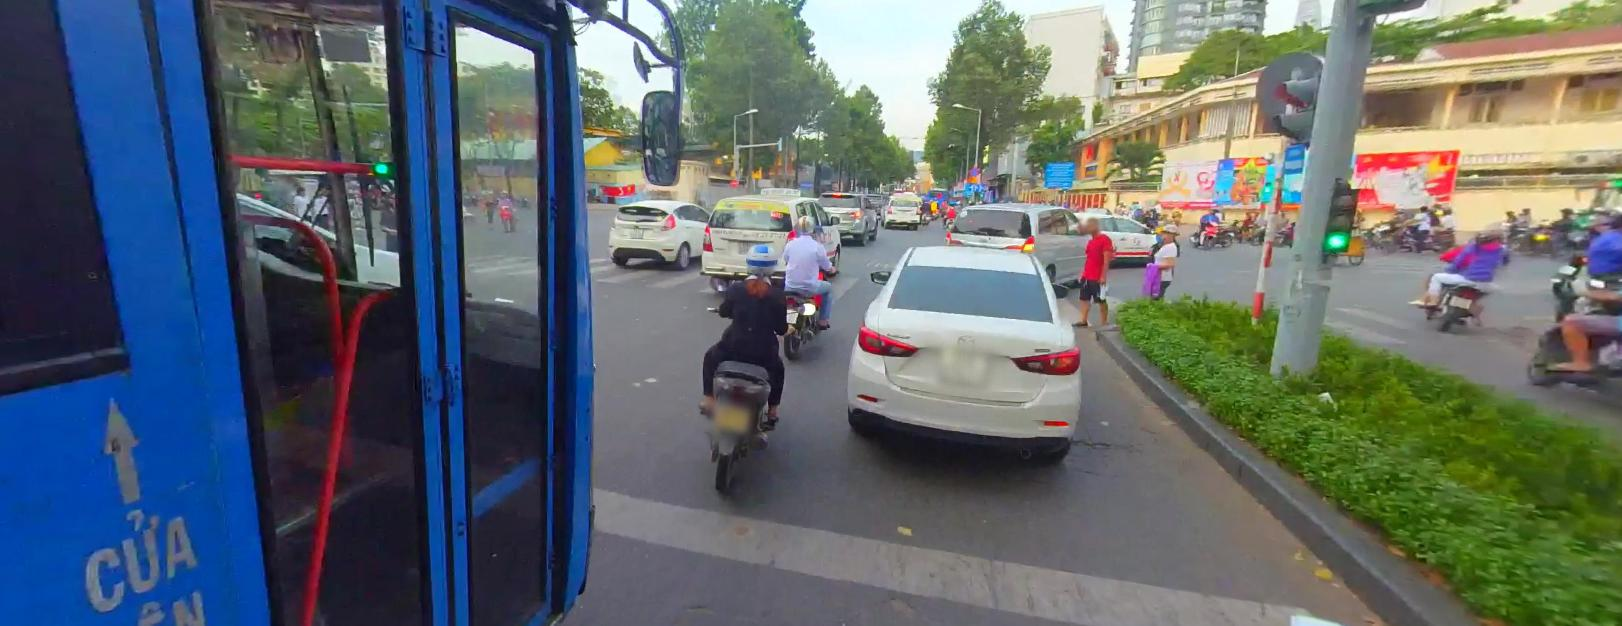Cam dung va do: (970, 165, 979, 173)
Cam nguoc chieu: (728, 178, 737, 186)
